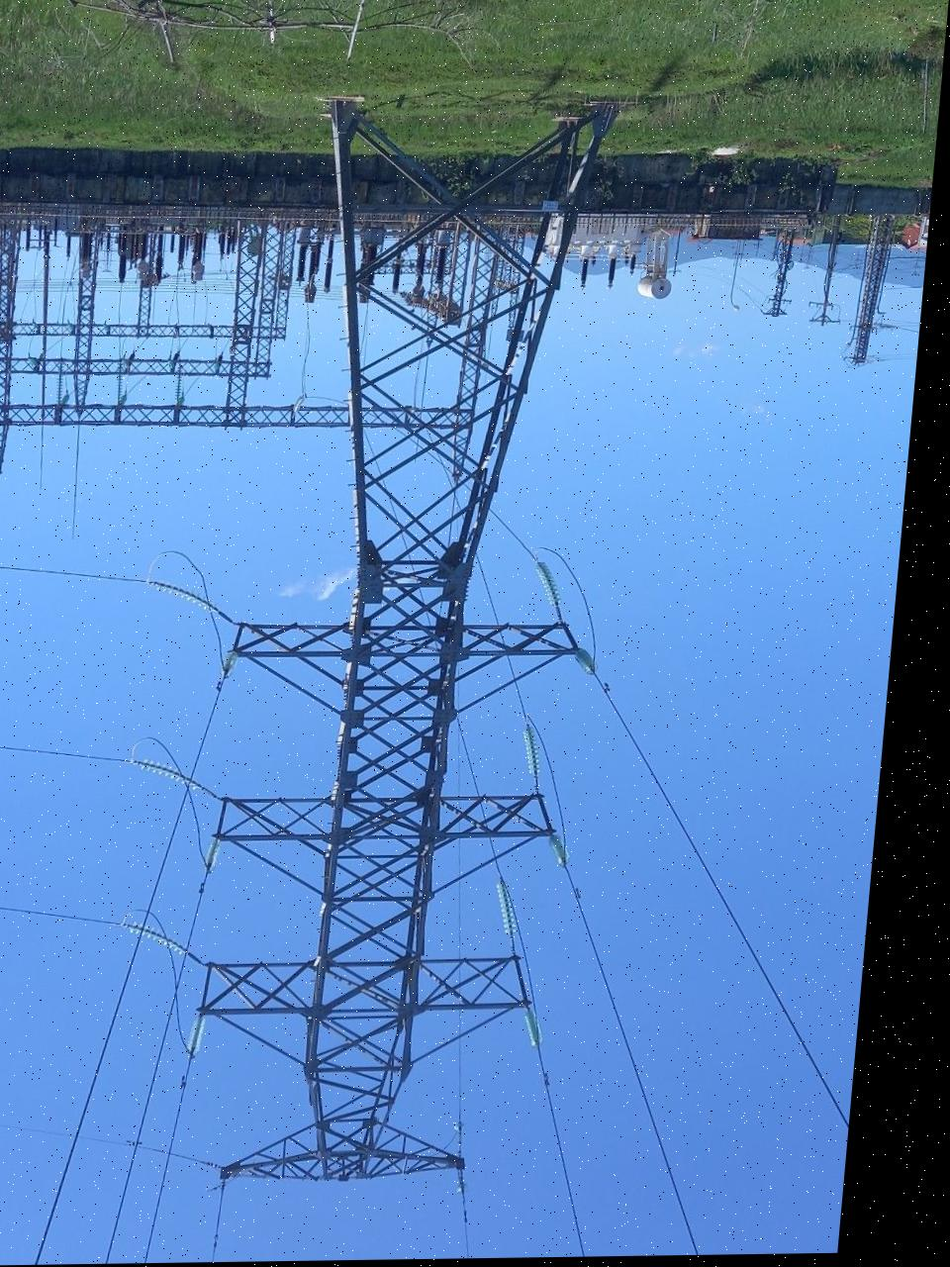tower: (176, 76, 659, 1207)
